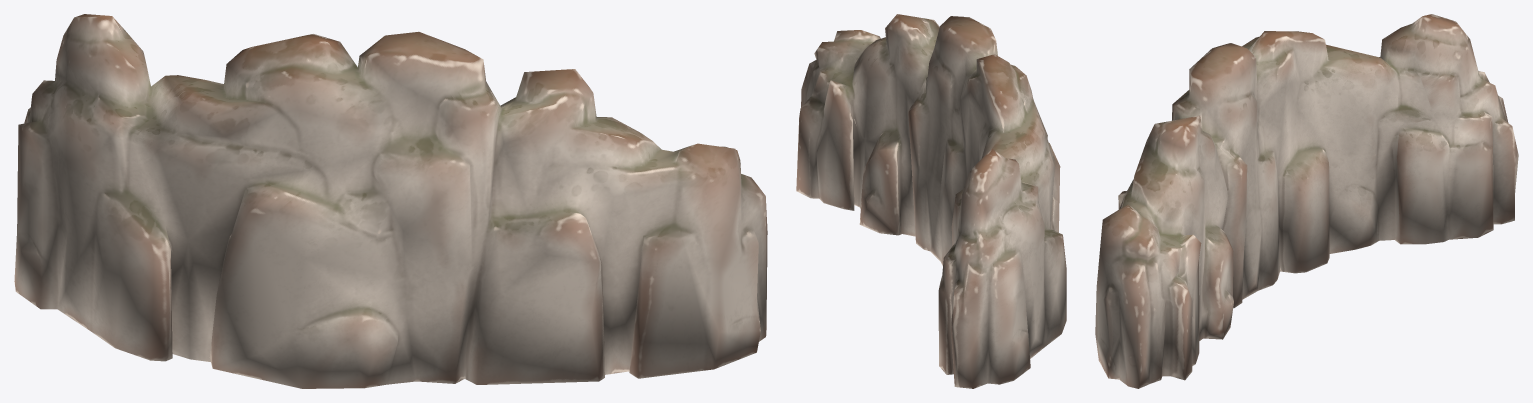
File: Rock Curved Wall 1.FBX
3 renders of one model, left to right at view 1: azimuth 30°, elevation 25°; view 2: azimuth 150°, elevation 25°; view 3: azimuth 270°, elevation 25°, orthographic. The views are drawn at different scales.
Parts seen in each view (by area): view 1: Rock Curved Wall 1; view 2: Rock Curved Wall 1; view 3: Rock Curved Wall 1.
Boxes of the visible parts, left/top/right/bottom form: Rock Curved Wall 1: left=14, top=14, right=767, bottom=388; Rock Curved Wall 1: left=796, top=14, right=1066, bottom=388; Rock Curved Wall 1: left=1095, top=14, right=1518, bottom=388.
Bounding box in the file's own units: 8075 × 4682 × 7700.
